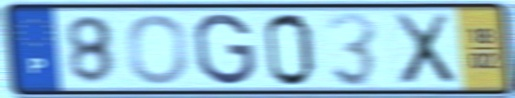0: (262, 11, 318, 88)
3: (325, 9, 386, 89)
8: (64, 13, 120, 86)
G: (191, 11, 259, 88)
O: (126, 12, 190, 86)
X: (390, 11, 458, 88)
